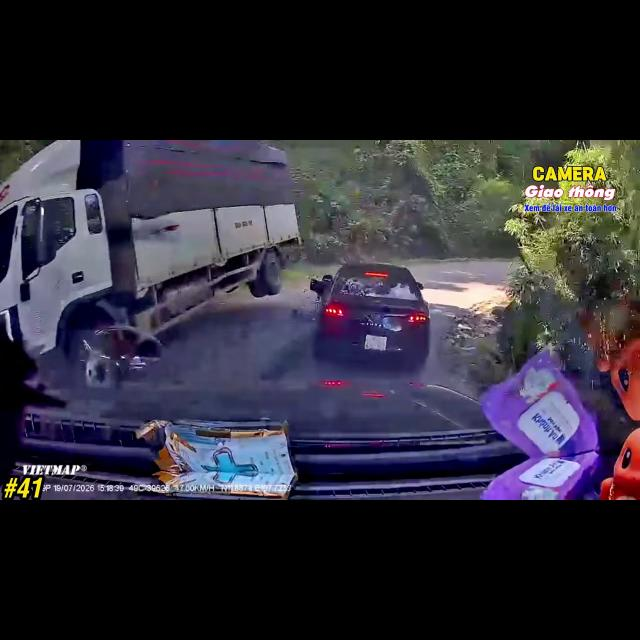car: (310, 263, 430, 367)
truck: (0, 140, 300, 385)
